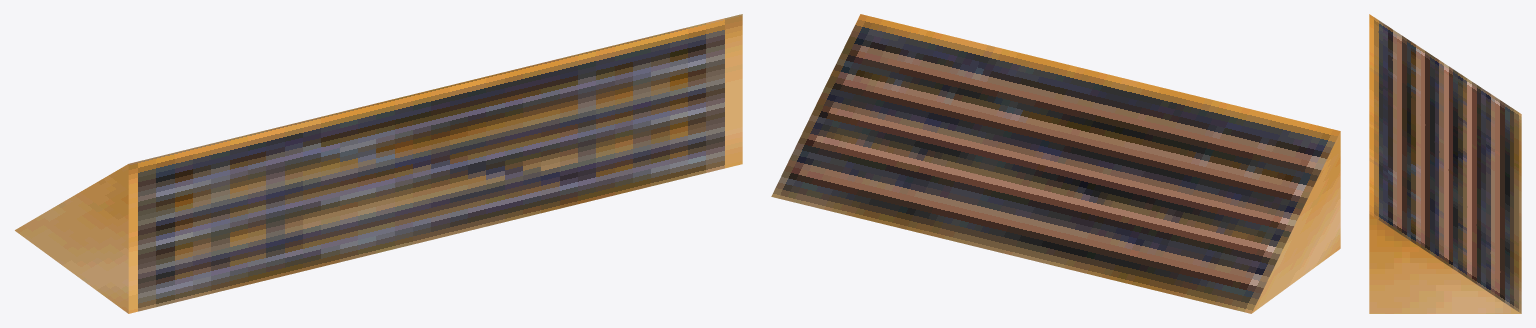
The model's file is bleacher05.glb.
3 views of the same model, side by side, from view 1: azimuth 30°, elevation 25°; view 2: azimuth 150°, elevation 25°; view 3: azimuth 270°, elevation 25° (orthographic). The views are drawn at different scales.
Visible parts, largest first — view 1: bleacher05; view 2: bleacher05; view 3: bleacher05.
Part boxes in pixels (x1,y1,x2,y2): bleacher05: [15, 14, 742, 313]; bleacher05: [771, 14, 1340, 313]; bleacher05: [1369, 14, 1521, 313].
Size of the model in its own units: 913 by 214 by 294.
Materials: 1 (1 with a texture image).
